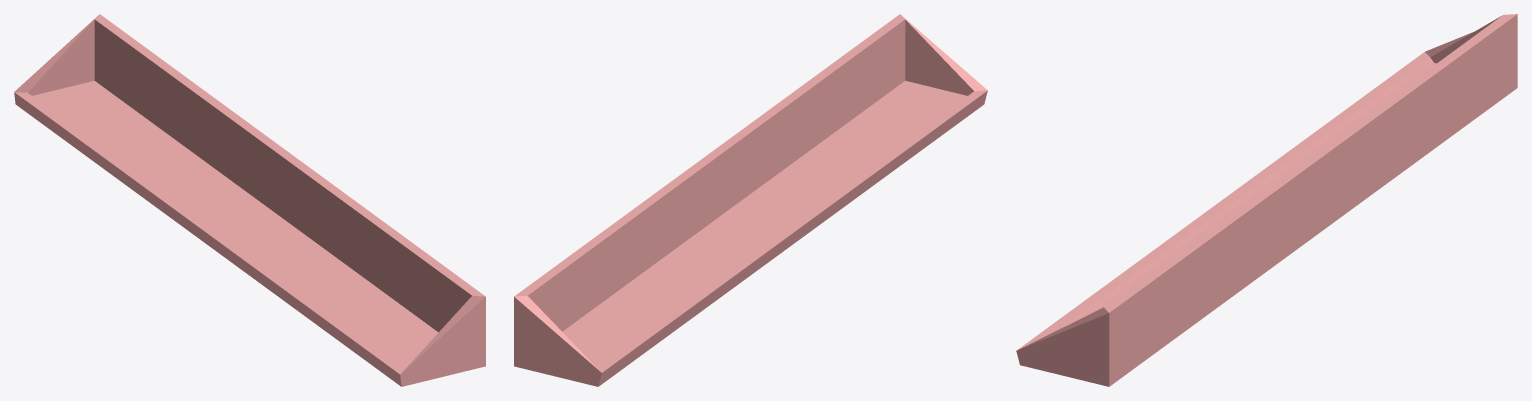
Rendered from blood.obj.
3 views of the same model, side by side, from view 1: azimuth 30°, elevation 25°; view 2: azimuth 150°, elevation 25°; view 3: azimuth 330°, elevation 25° (orthographic). The views are drawn at different scales.
Visible parts, largest first — view 1: Cube.001; view 2: Cube.001; view 3: Cube.001.
Part boxes in pixels (x1,y1,x2,y2): Cube.001: [14, 14, 485, 386]; Cube.001: [514, 14, 987, 386]; Cube.001: [1016, 14, 1517, 386].
Size of the model in its own units: 2.65 by 2.04 by 20.51.
Materials: 1 (1 with a texture image).
